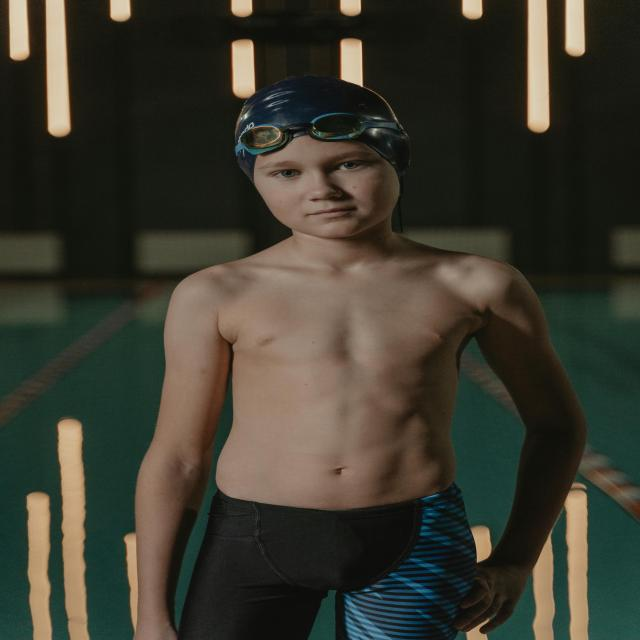stand: (144, 69, 524, 640)
